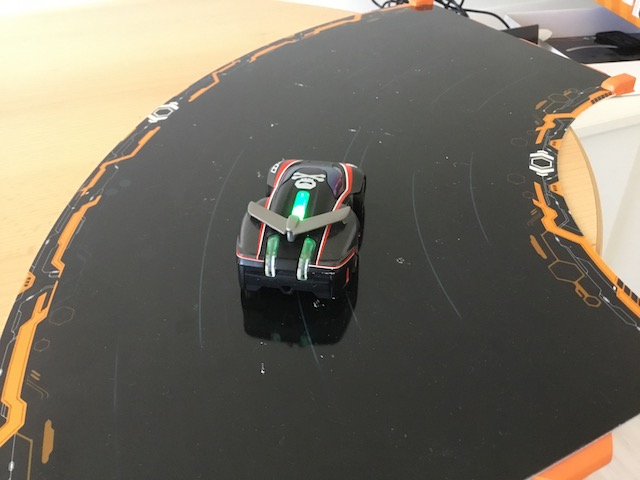car-red: (232, 154, 369, 308)
